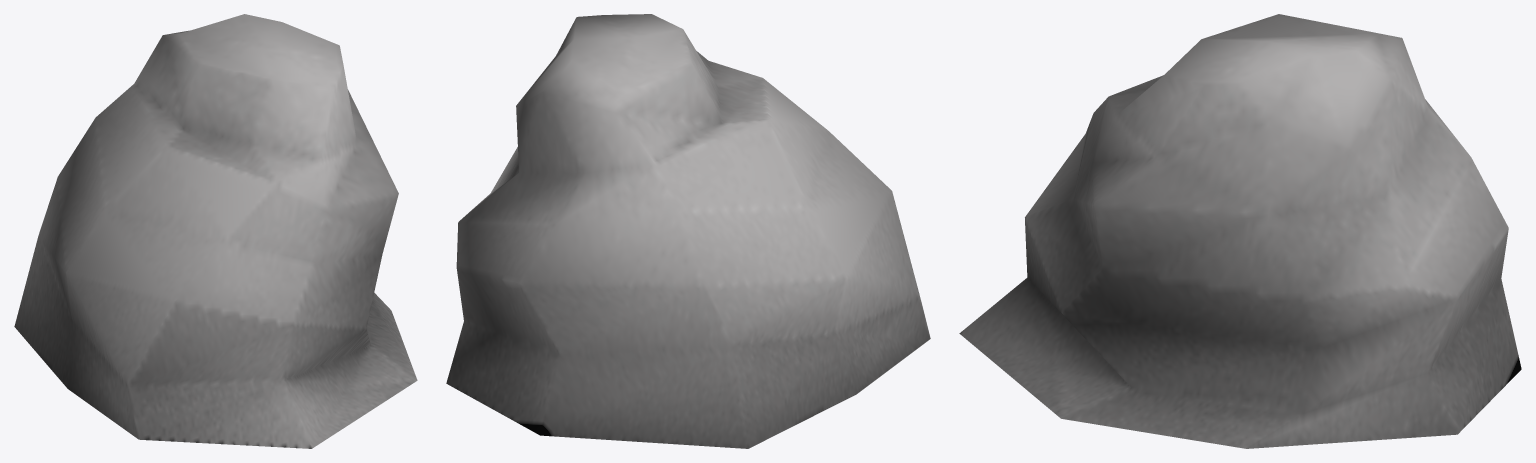
Rendered from Rock_03.fbx.
3 views of the same model, side by side, from view 1: azimuth 30°, elevation 25°; view 2: azimuth 150°, elevation 25°; view 3: azimuth 270°, elevation 25° (orthographic). The views are drawn at different scales.
Parts seen in each view (by area): view 1: Rock_09; view 2: Rock_09; view 3: Rock_09.
Boxes of the visible parts, x1=… form: Rock_09: x1=14, y1=14, x2=417, y2=448; Rock_09: x1=446, y1=14, x2=930, y2=448; Rock_09: x1=959, y1=14, x2=1521, y2=448.
Size of the model in its own units: 0.1039 by 0.0899 by 0.1328.
